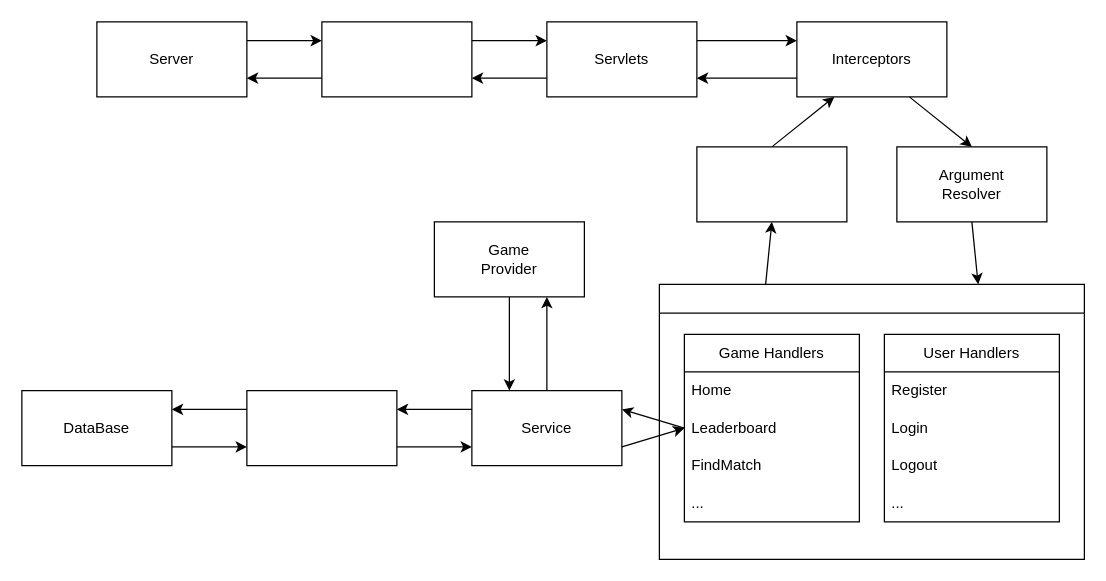
This 1106x581 diagram has some shape labels left out. Each missing label, with the box of its shape:
Controllers: (658, 283, 1084, 559)
Filters: (321, 21, 472, 97)
Message Converter: (696, 146, 847, 222)
Repository: (246, 389, 397, 466)
